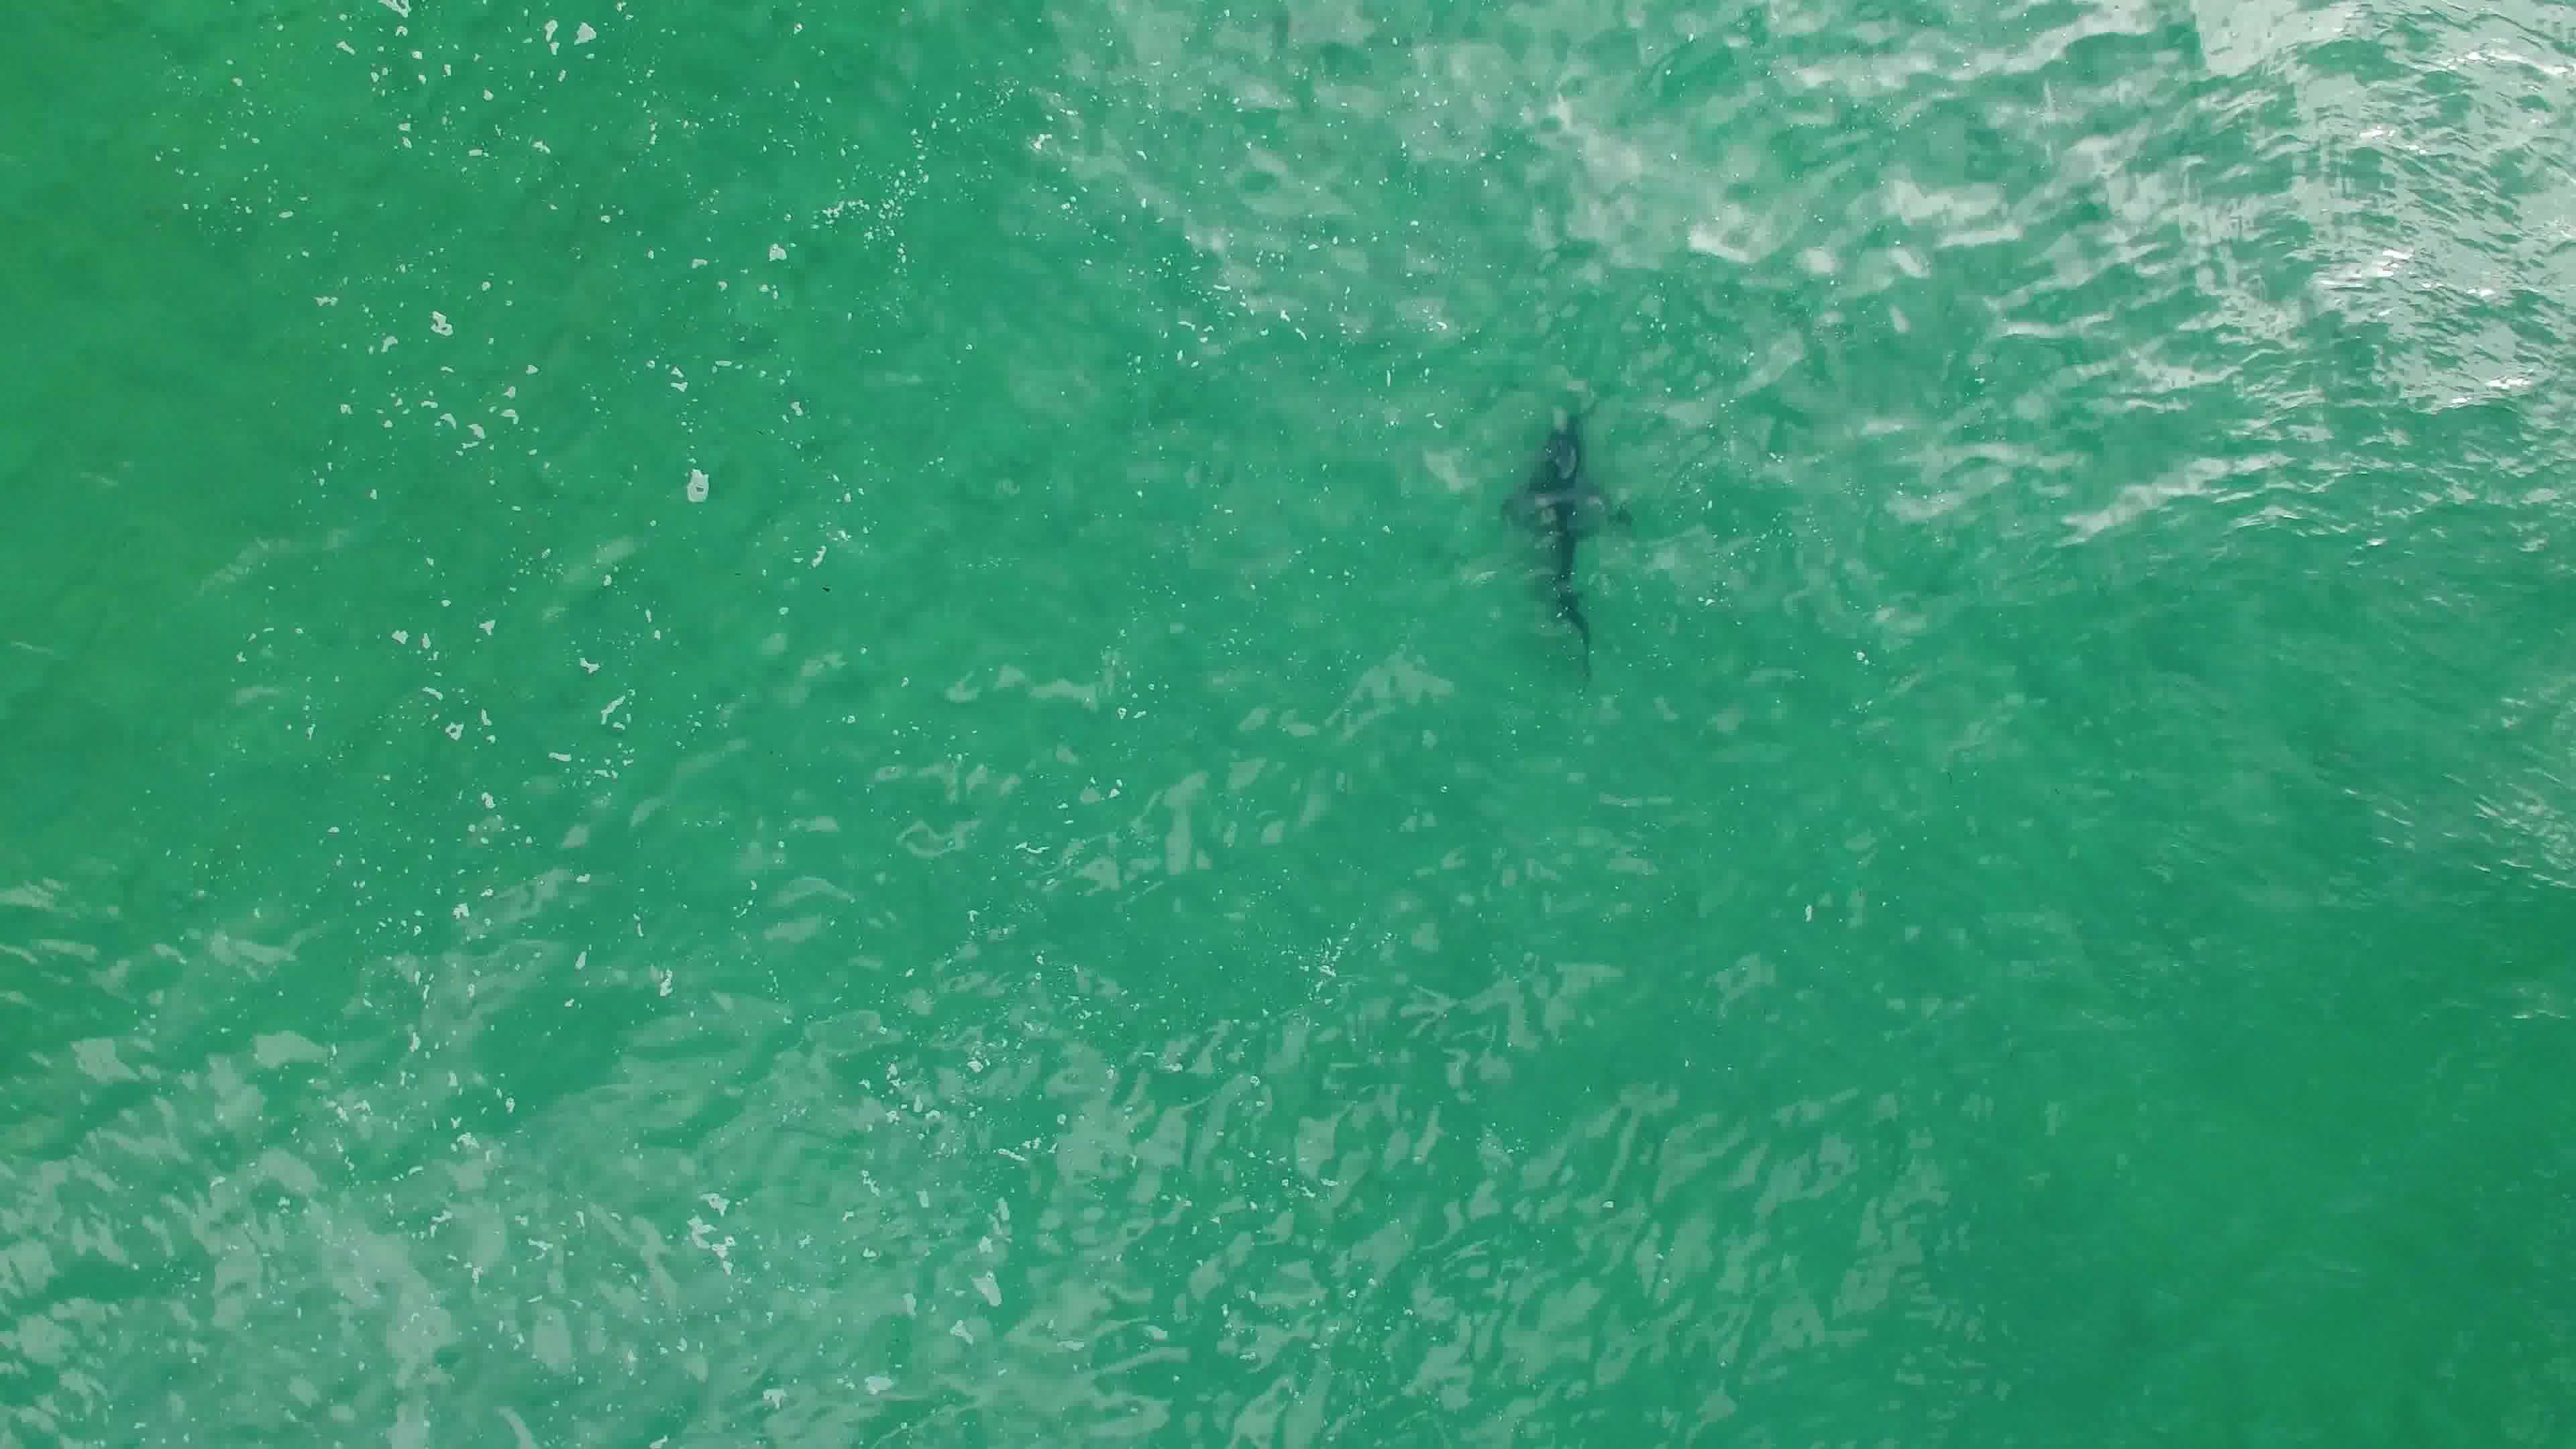shark: (1497, 400, 1635, 672)
